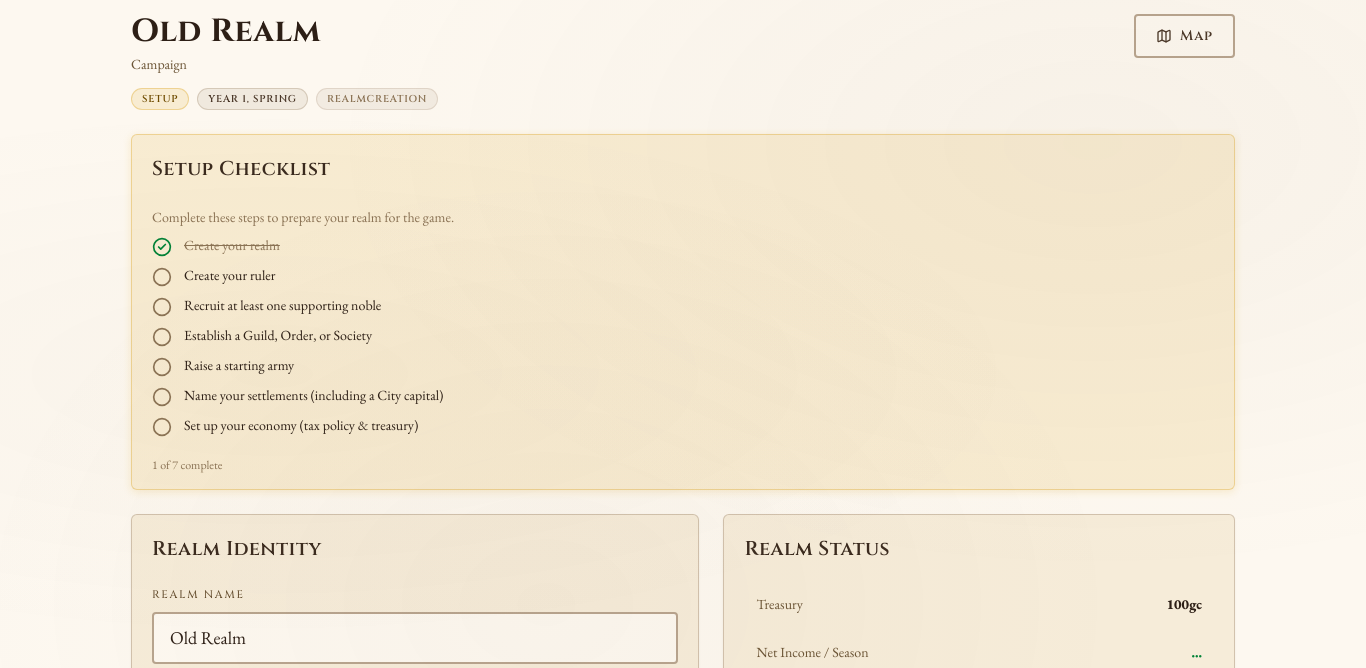
Test: RealmDashboard mutations › updates the saved realm title and status after identity save succeeds
expect the heading "Old Realm" is shown: met, box [131,10,321,53]
Replace the text in the field labelled "Realm Name" with "New Realm": coordinates (415, 638) [152,612,678,664]
(page scrolled)
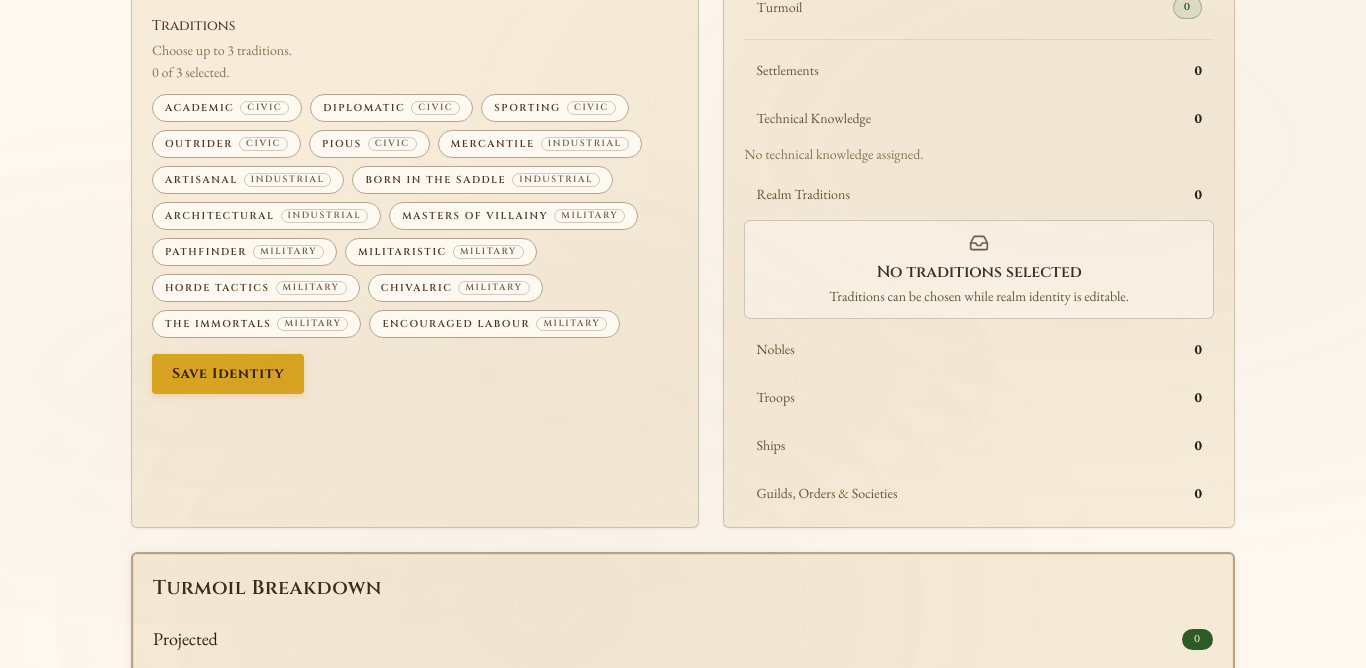
Click the button "Save Identity": coordinates (228, 374) [152,354,304,394]
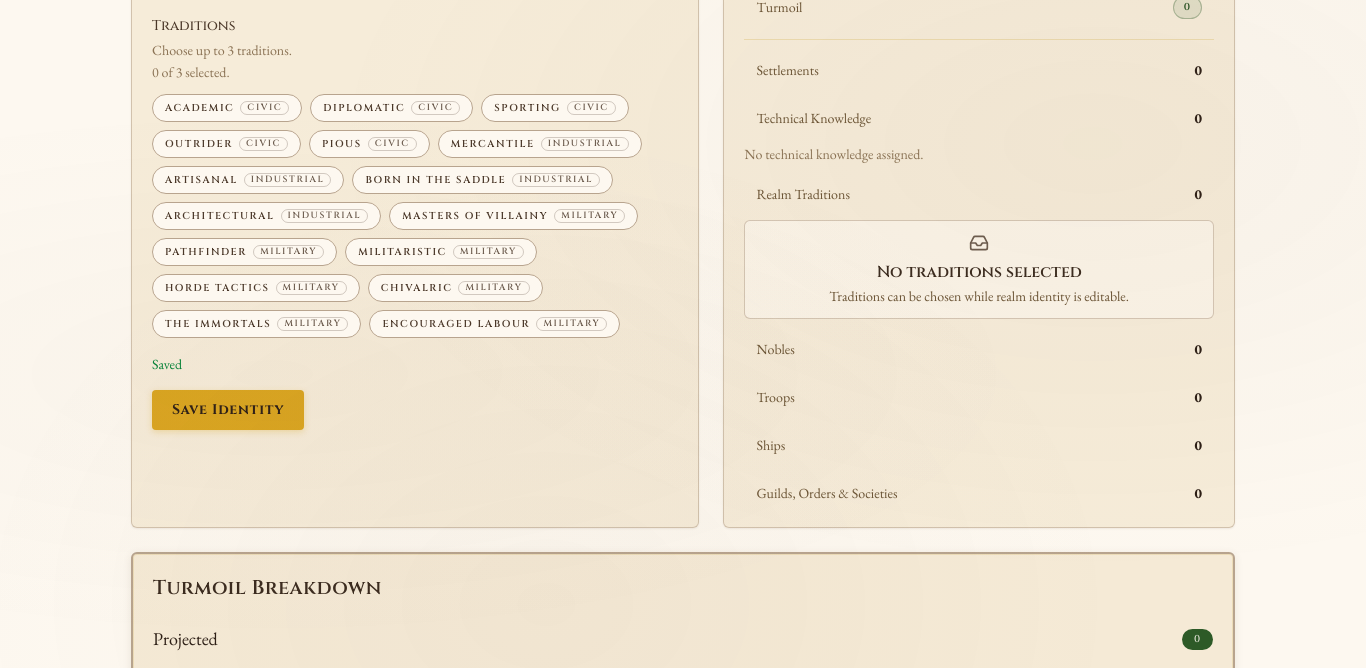
expect the text "Saved" is shown: met, box [152,355,182,373]
